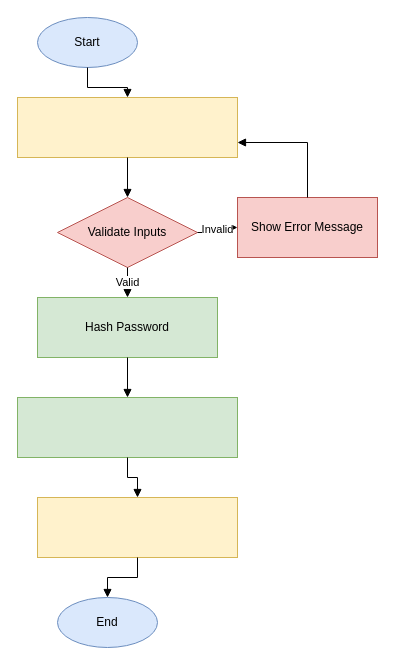
This 395x665 diagram has some shape labels left out. Each missing label, with the box of its shape:
Send Confirmation Email: (36, 496, 238, 558)
Store User Data in Database: (16, 396, 238, 458)
User Inputs Details (Name, Email, Password): (16, 96, 238, 158)
